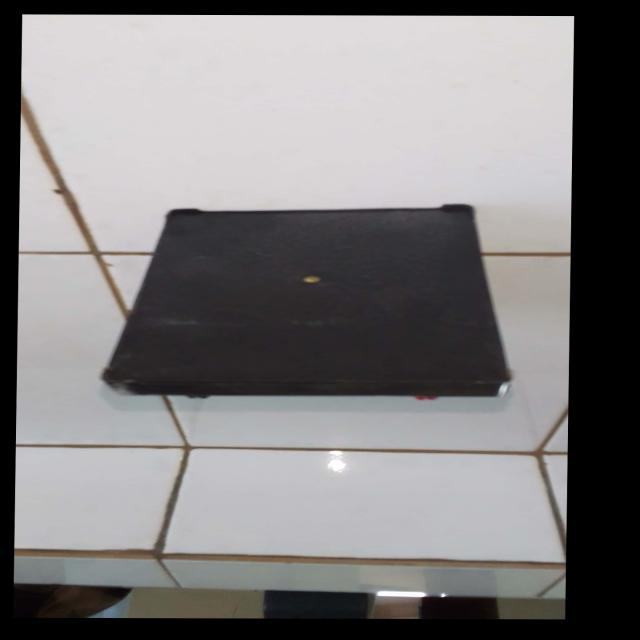Digital Voltmeter 0-20V: (103, 191, 534, 409)
